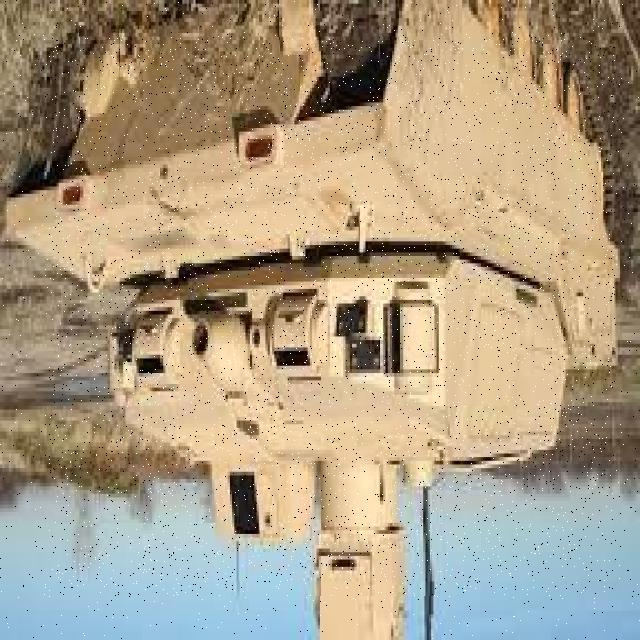MIL_MBT: (49, 37, 614, 596)
